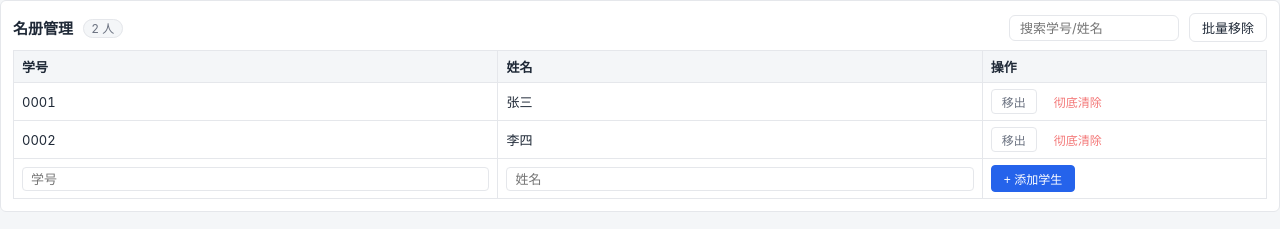
Scenario: RosterPanel 行内优先交互 › 批量移除（勾选模式，软移出） › 确认移除：逐条软移出 + refreshed + 退出勾选模式 + toast 带名单
This screenshot has width=1280, height=229.
What coordinates should you click on to do the following:
click the button with class "batch-remove"
I would click on:
 (1228, 28)
Its box is x1=1189 y1=13 x2=1267 y2=42.
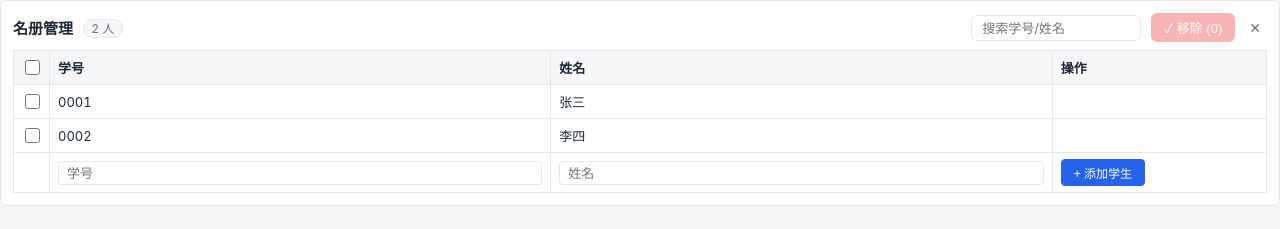
What coordinates should you click on to do the following:
click the checkbox with class "check-all"
I would click on:
 (32, 68)
Its box is x1=24 y1=60 x2=40 y2=75.
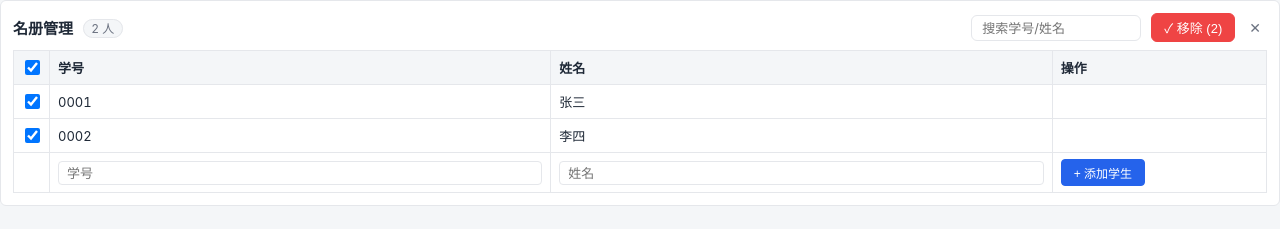
What coordinates should you click on to do the following:
click the button with class "batch-remove-confirm"
I would click on:
 (1193, 28)
Its box is x1=1151 y1=13 x2=1235 y2=42.
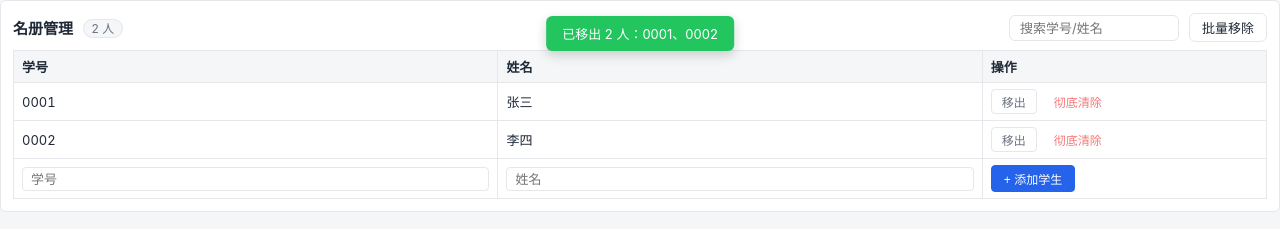
Now the text "已移出 2 人" is shown, box x1=562 y1=26 x2=718 y2=42
Now the text "0001、0002" is shown, box x1=562 y1=26 x2=718 y2=42
